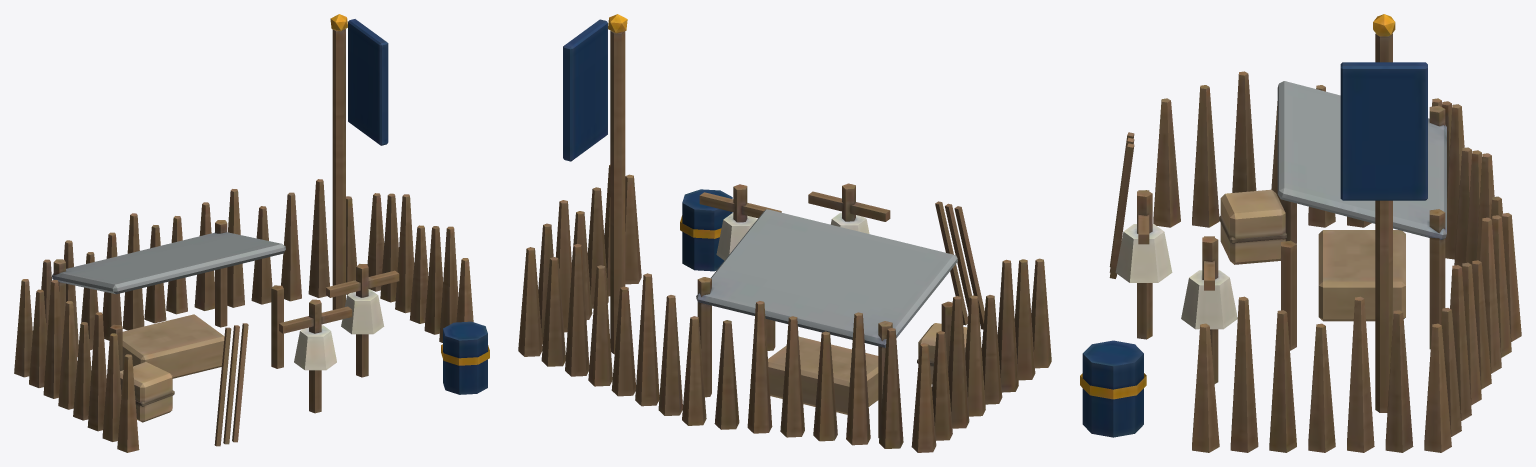
Rendered from barracks-1.glb.
The picture shows the model from 3 angles, left to right: view 1: azimuth 30°, elevation 25°; view 2: azimuth 150°, elevation 25°; view 3: azimuth 270°, elevation 25°; orthographic projection. The views are drawn at different scales.
Parts seen in each view (by area): view 1: barracks-1; view 2: barracks-1; view 3: barracks-1.
Boxes of the visible parts, x1,y1,x2,y2 form: barracks-1: (14, 14, 489, 452); barracks-1: (518, 14, 1051, 452); barracks-1: (1080, 14, 1521, 452).
Bounding box in the file's own units: 1.29 × 1 × 1.01.
Materials: 1 (1 with a texture image).
